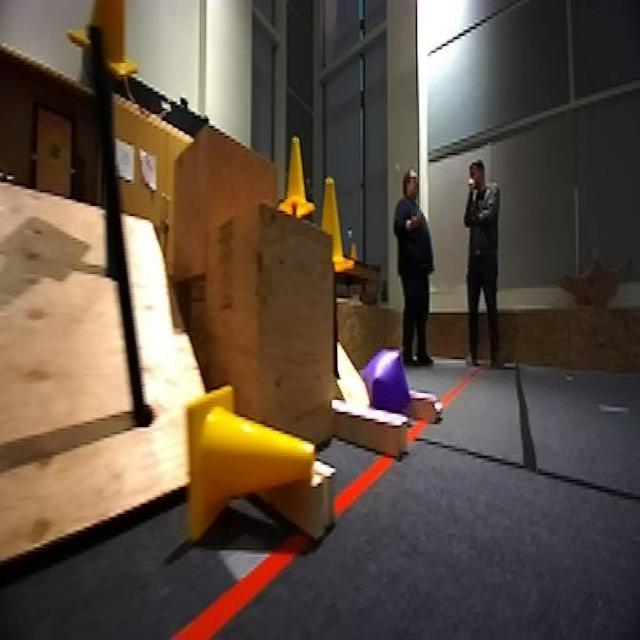frc_cone: (177, 386, 307, 531), (73, 0, 139, 80), (316, 179, 351, 279), (277, 136, 309, 220)
frc_cube: (366, 347, 411, 417)
